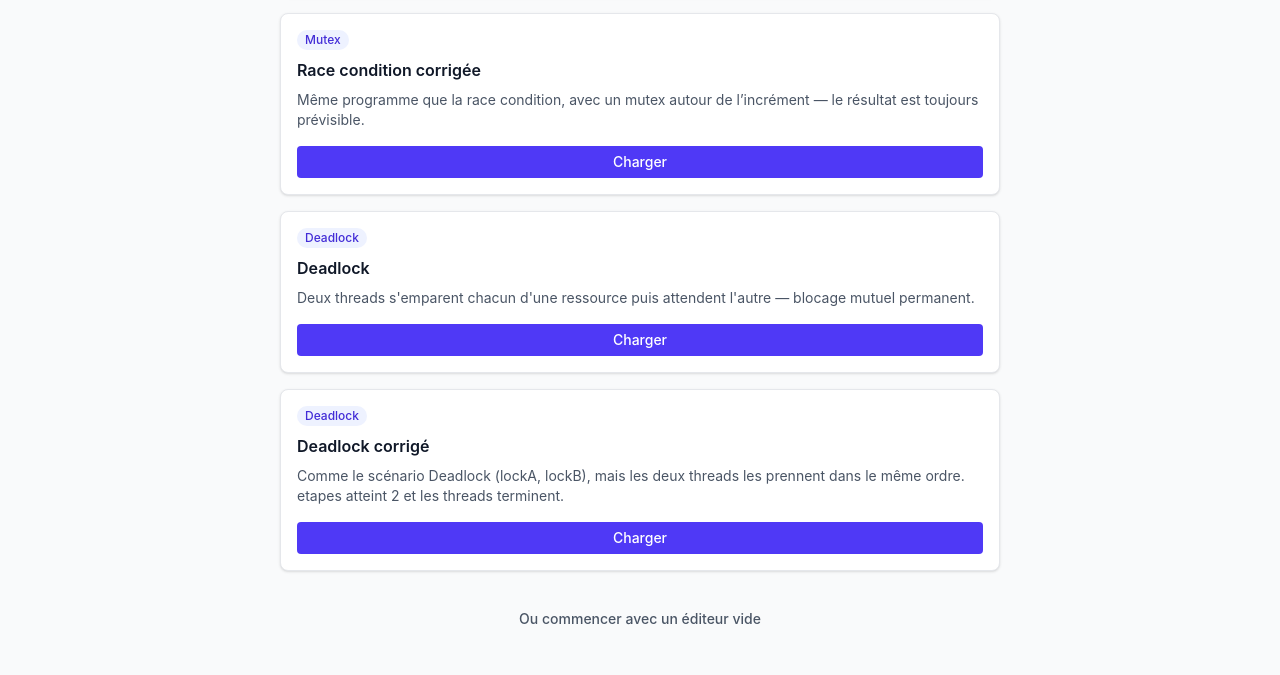
App editor › adds a lane when clicking the add button
(page scrolled)
What coordinates should you click on to do the following:
click the button "Ou commencer avec un éditeur vide"
I would click on:
 (640, 619)
Its box is [507,603,773,635].
(page scrolled)
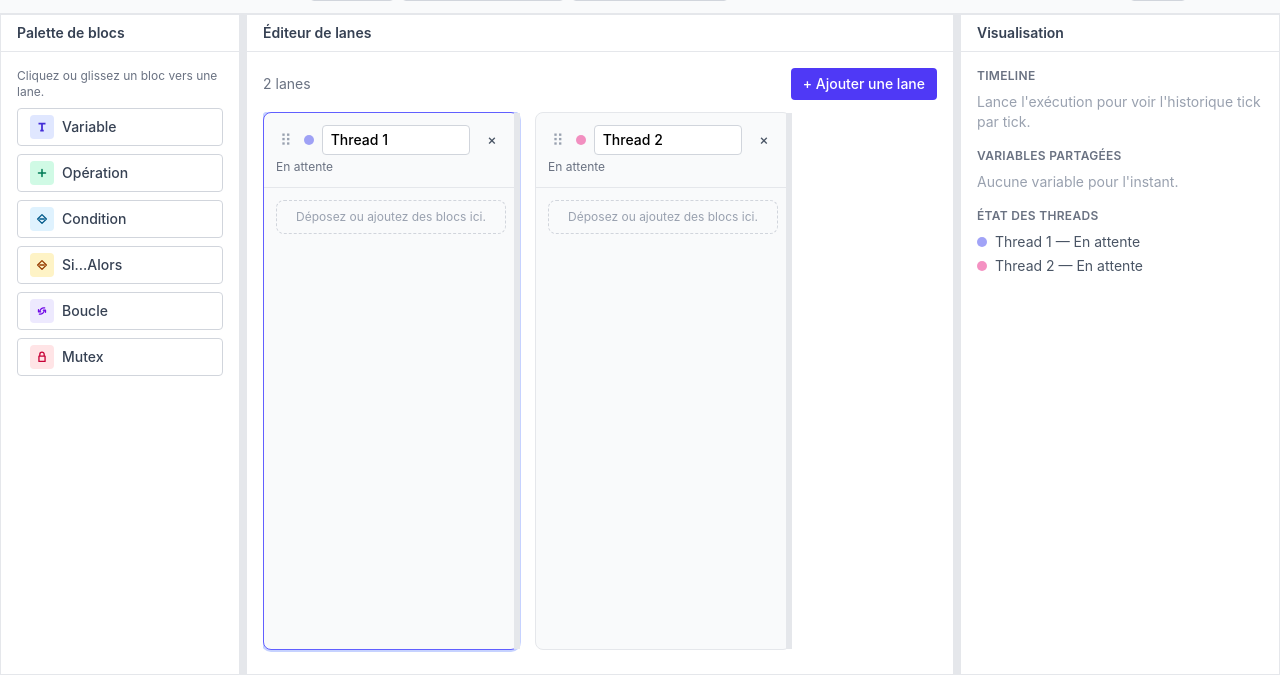
Result: the text named "Nombre de lanes" reads "2 lanes" at [263,74,311,94]
What coordinates should you click on to do the following:
click the button "+ Ajouter une lane"
I would click on:
 (864, 84)
Its box is [791,68,937,100].
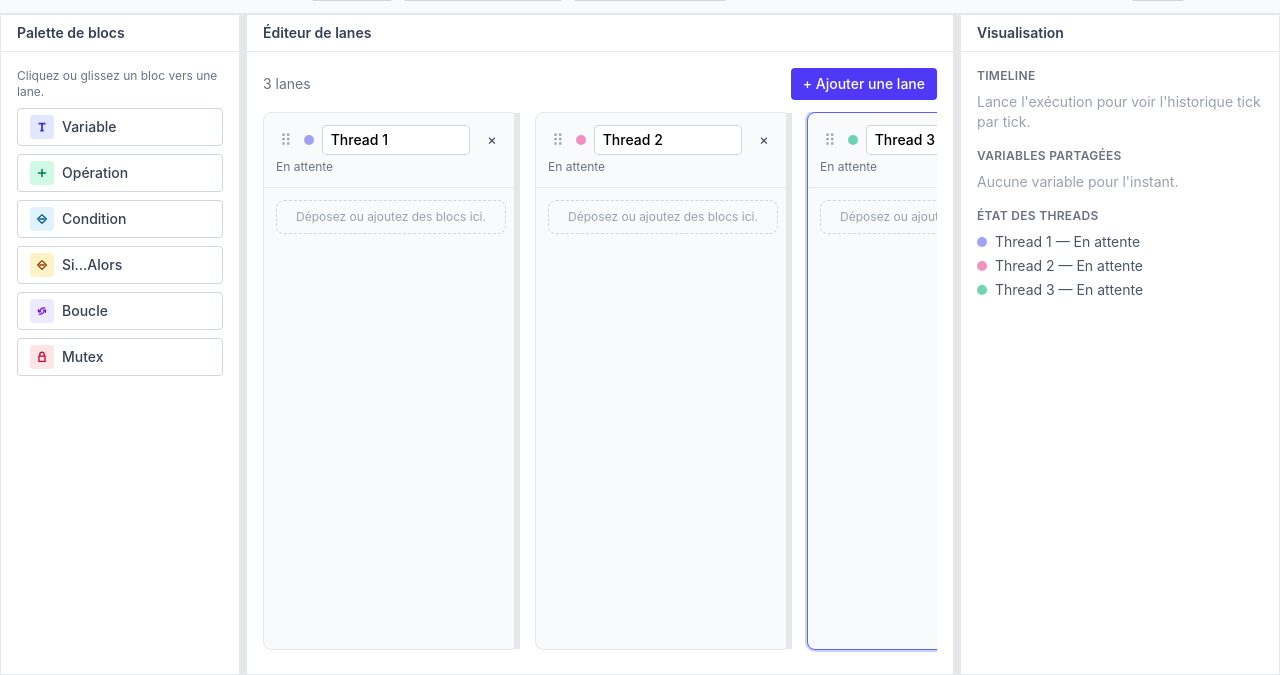
Result: the text named "Nombre de lanes" reads "3 lanes" at [263,74,311,94]
